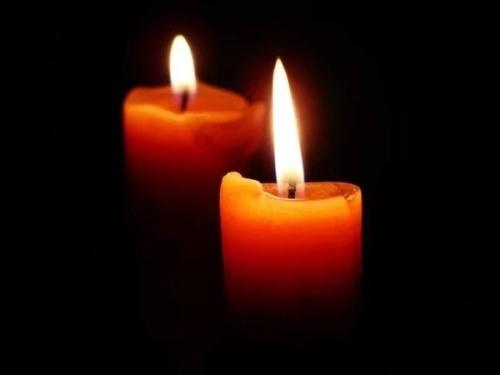fire: (266, 53, 306, 192), (164, 30, 198, 102)
